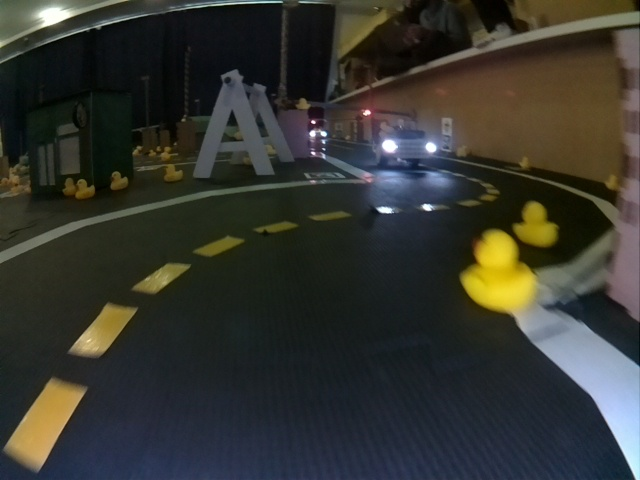Duckie: (459, 229, 533, 310), (517, 205, 555, 248), (76, 181, 96, 200), (162, 163, 183, 181), (110, 172, 129, 190), (604, 173, 619, 190), (63, 177, 75, 198), (297, 97, 310, 110), (456, 144, 468, 156), (520, 160, 532, 166)
Duckiebot: (373, 122, 437, 168), (309, 128, 328, 138)
Traffic light: (363, 109, 370, 117)
